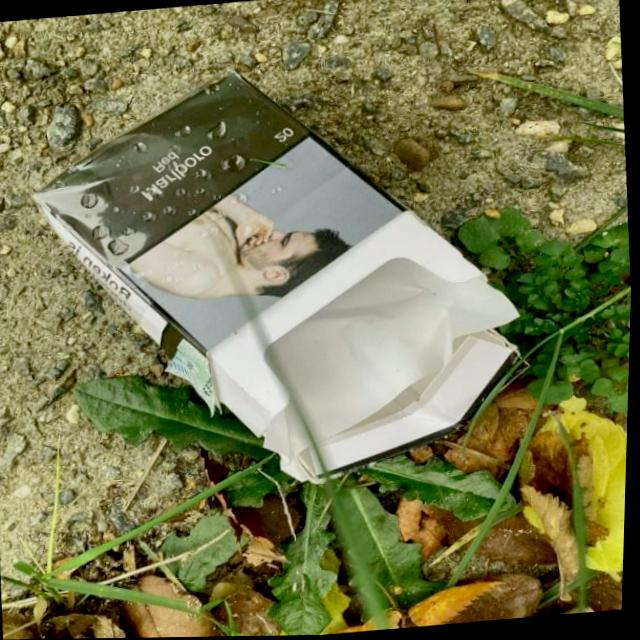Paper: (9, 43, 547, 517)
